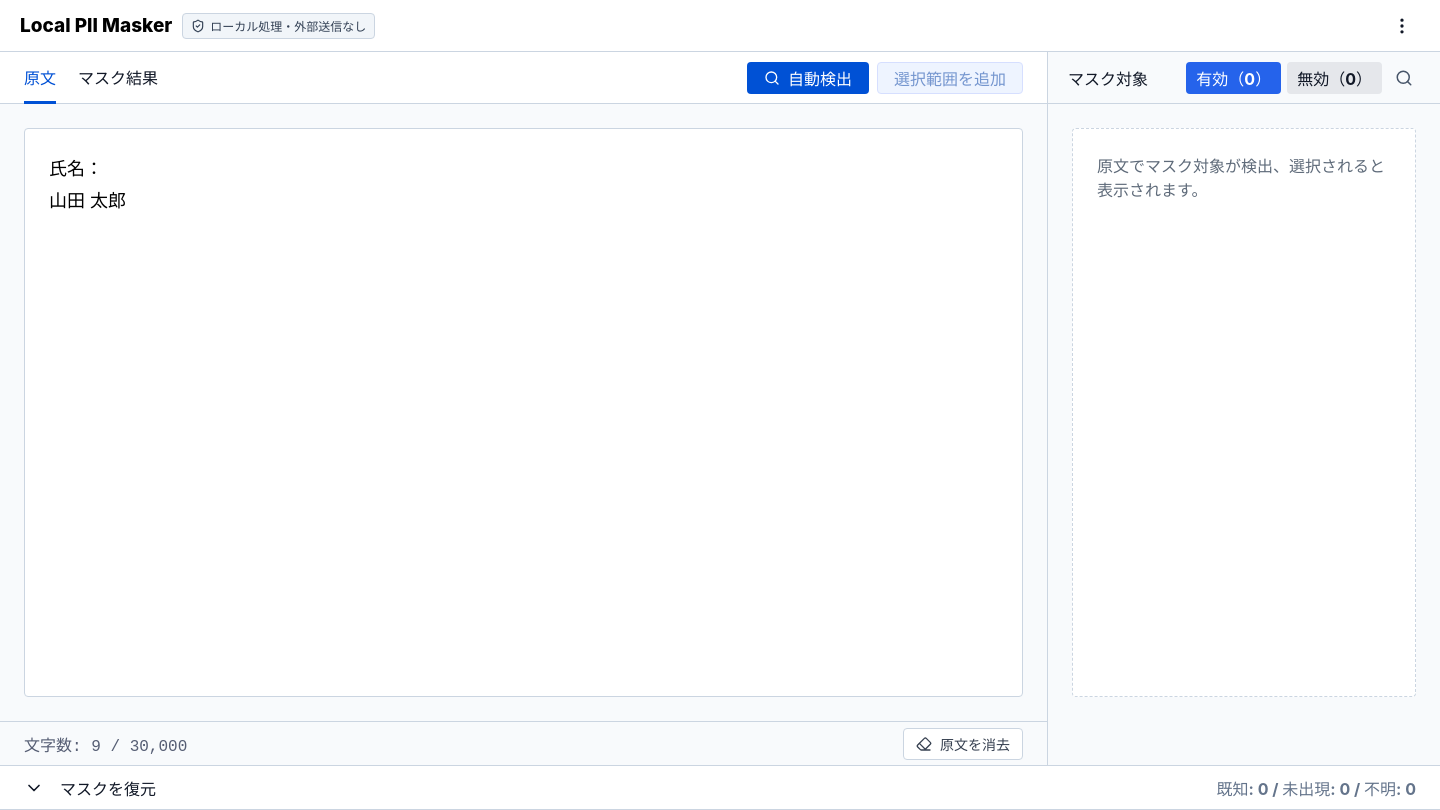
Scenario: App › 変更箇所の内訳をクリックで開閉し、Escapeで起点へ戻す
Click the button named "メニュー": (1402, 26) [1384,8,1420,44]
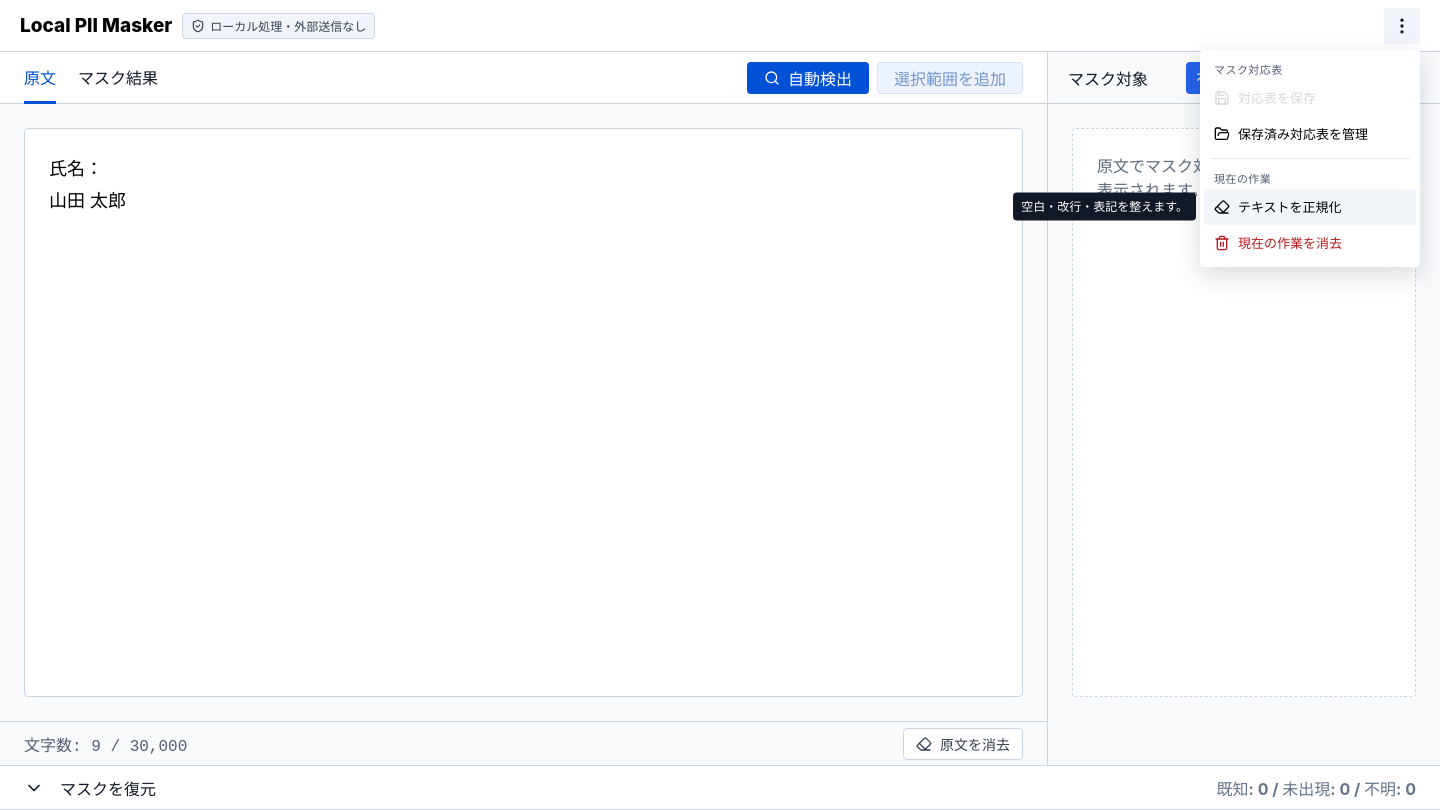
Click the menu item "テキストを正規化": (1310, 206) [1204,188,1416,224]
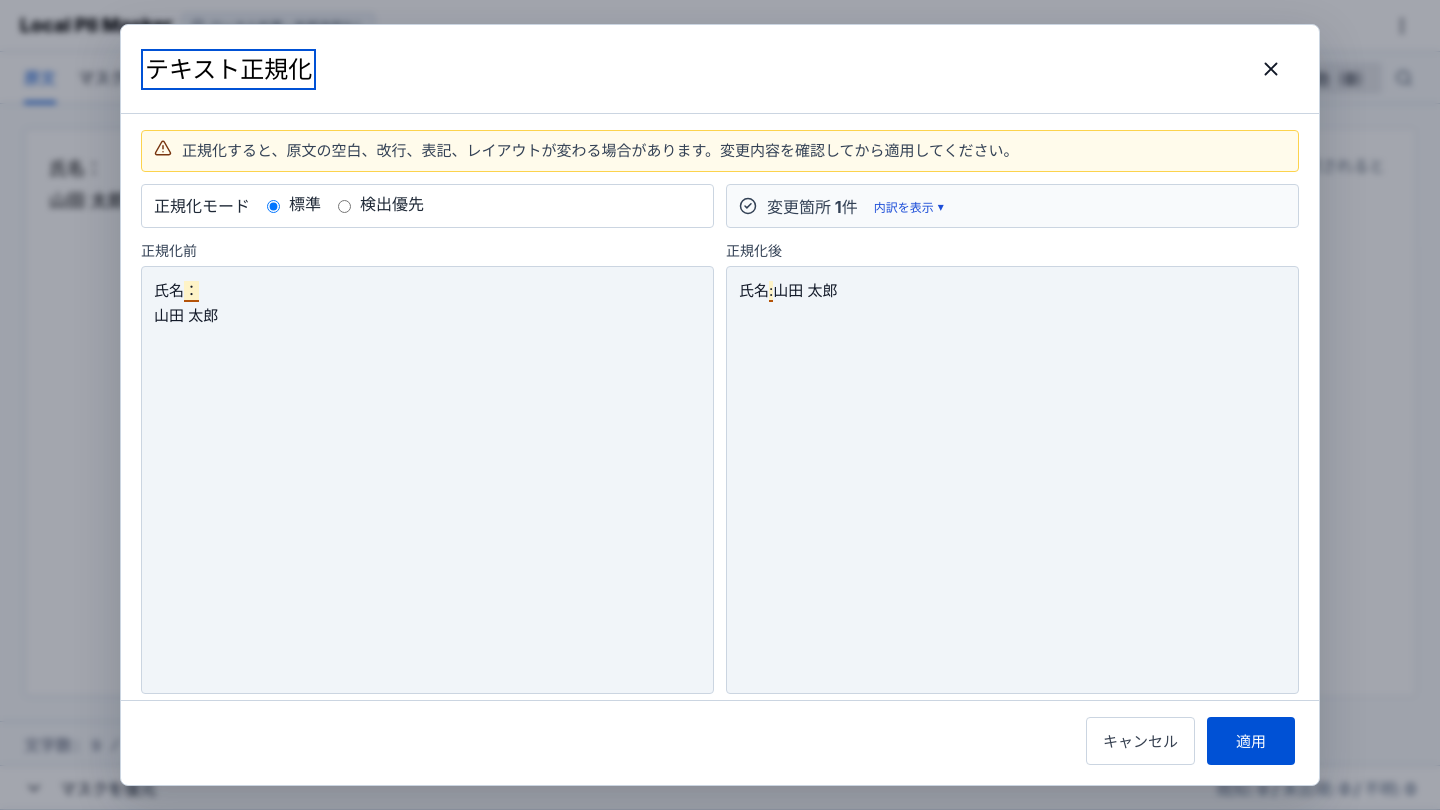
Expected: the element "内訳（ルール別・延べ件数）" is not shown
Click the button "内訳を表示 ▾": (909, 206) [868,194,950,218]
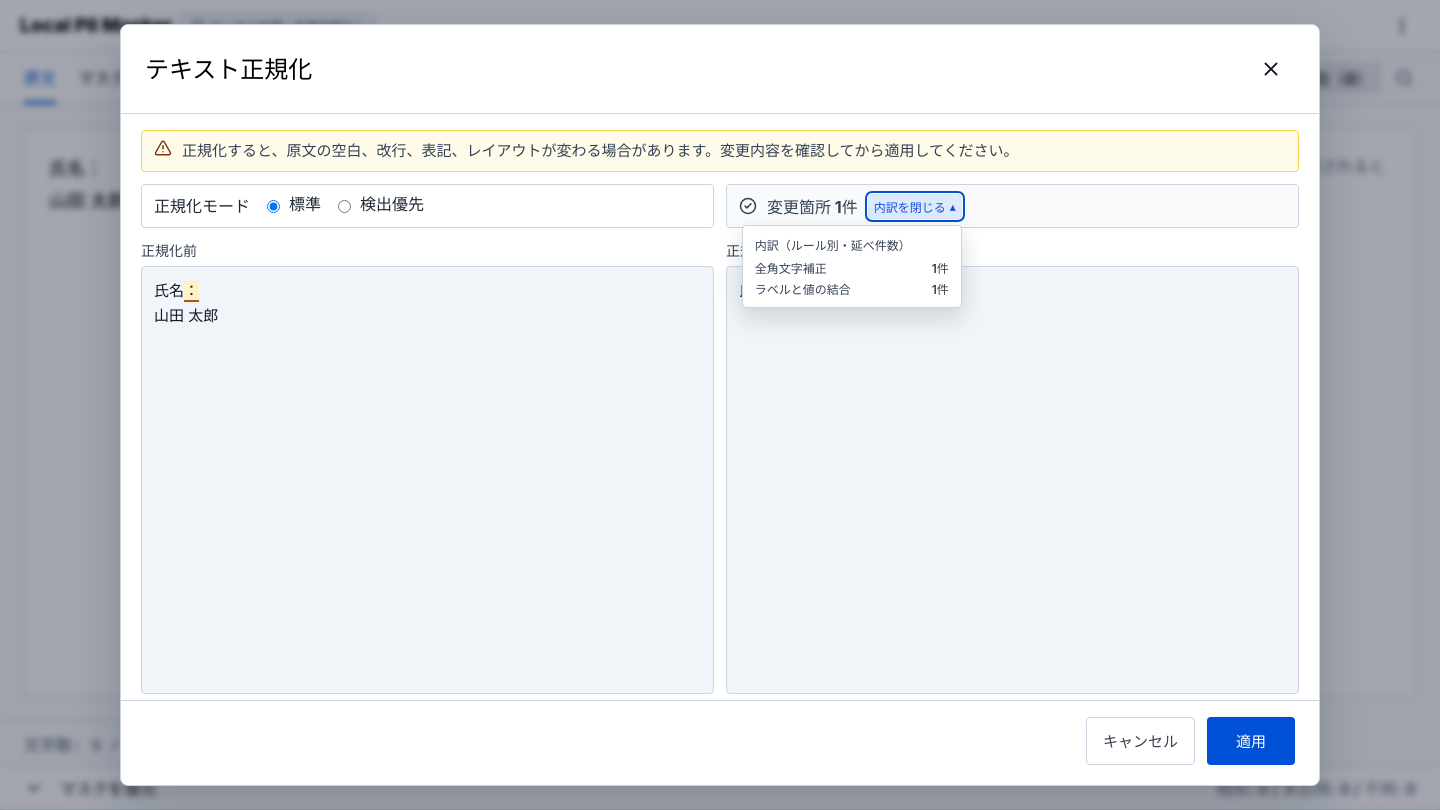
Expected: the button with aria-label "内訳を表示" is expanded, [868,194,962,218]
Expected: the element "内訳（ルール別・延べ件数）" shows "ラベルと値の結合", [755,282,851,296]
Click the element labelled "正規化前": (428, 467) [141,240,714,694]
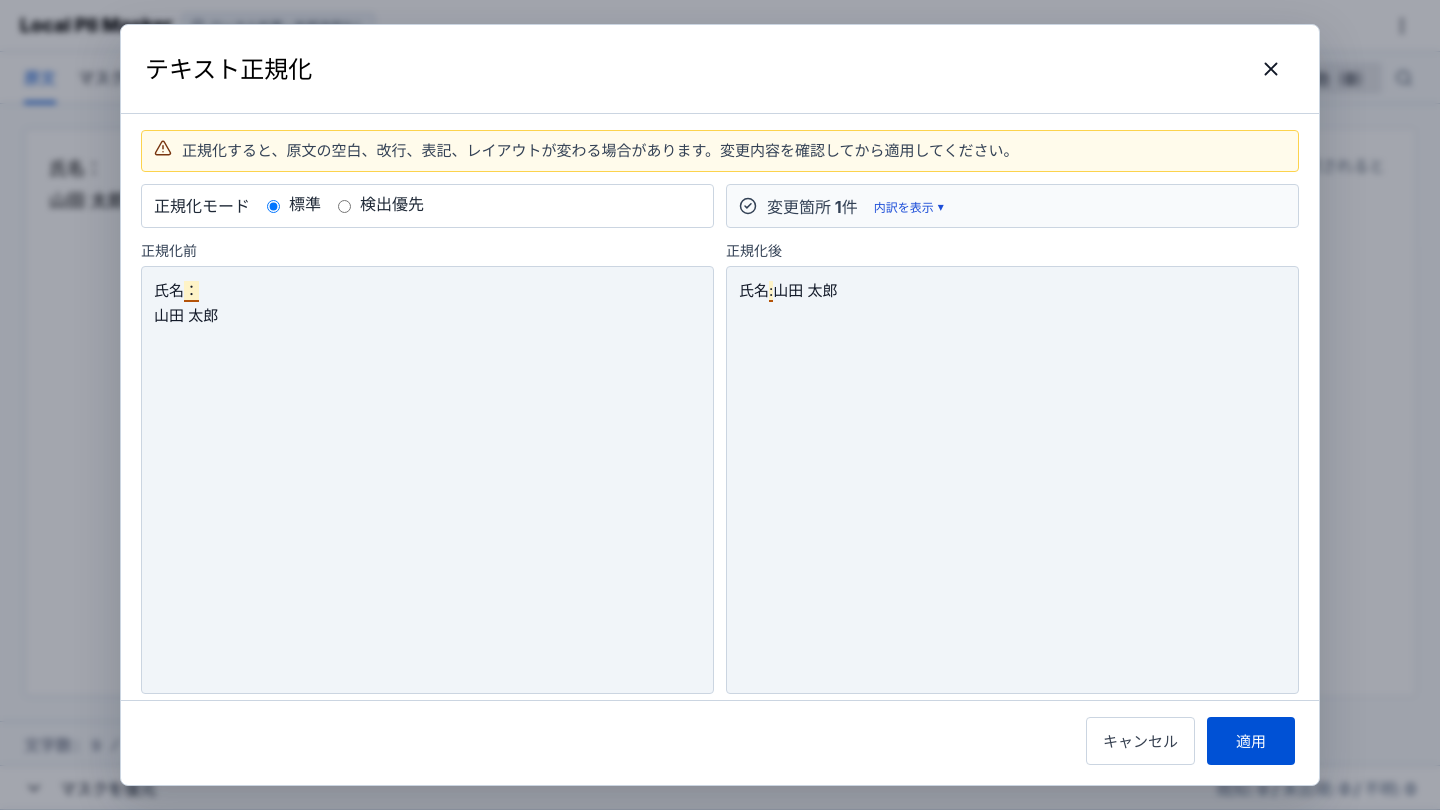
Expected: the text "内訳（ルール別・延べ件数）" is gone
Click the button "内訳を表示 ▾": (909, 206) [868,194,950,218]
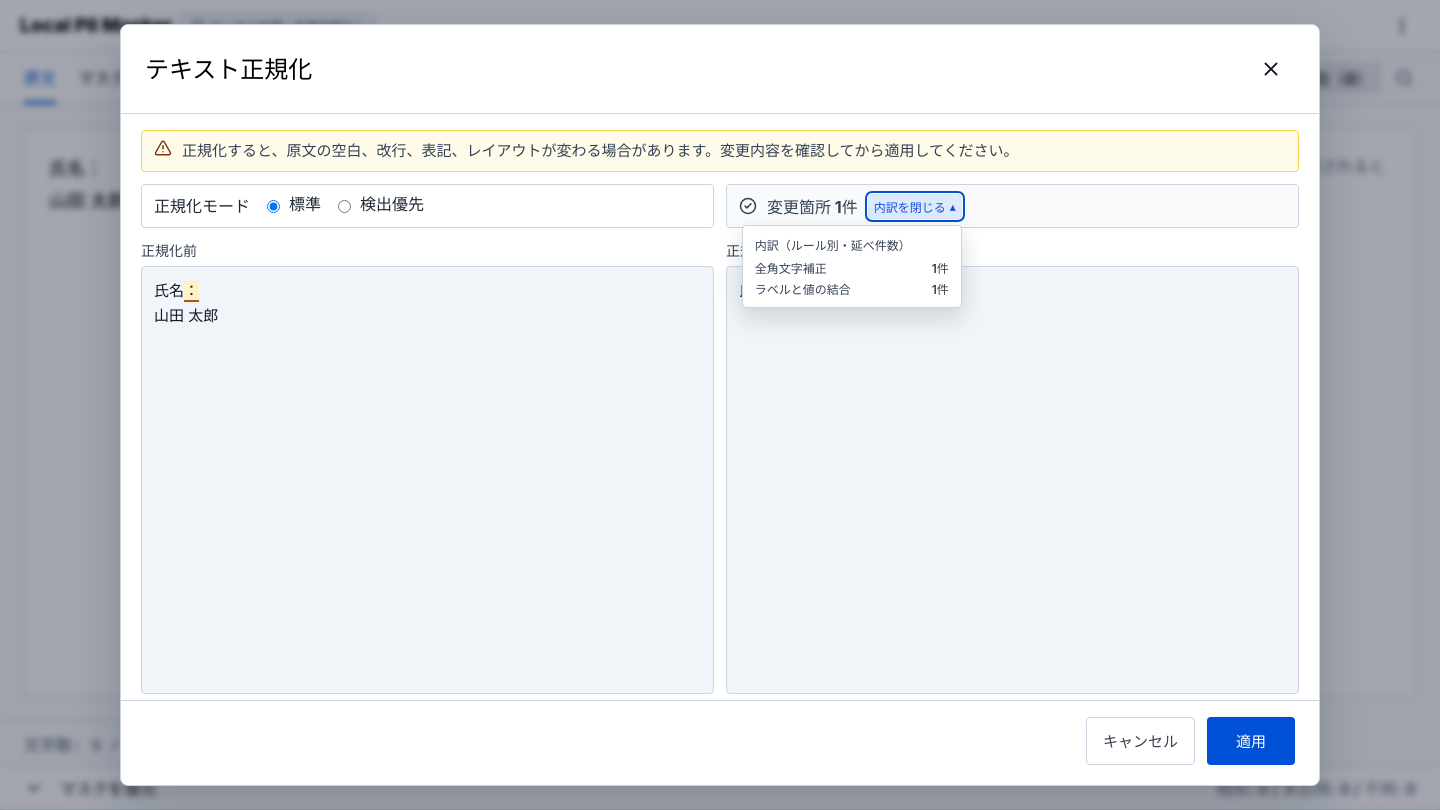
Press Escape
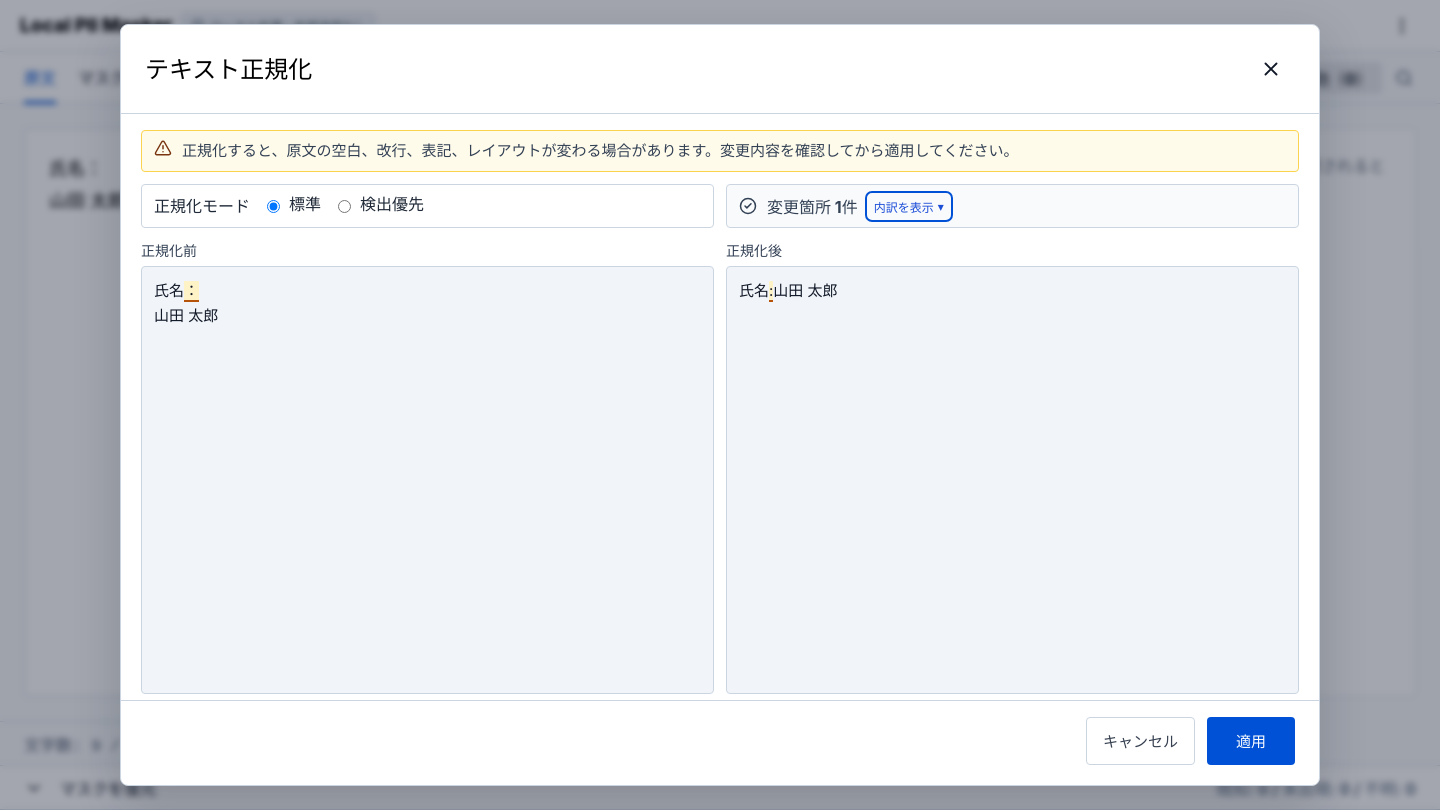
Expected: the button "内訳を表示 ▾" is collapsed, [868,194,950,218]
